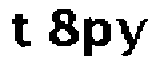8: (44, 5, 80, 47)
p: (81, 16, 113, 56)
t: (7, 13, 38, 51)
y: (114, 15, 150, 60)
